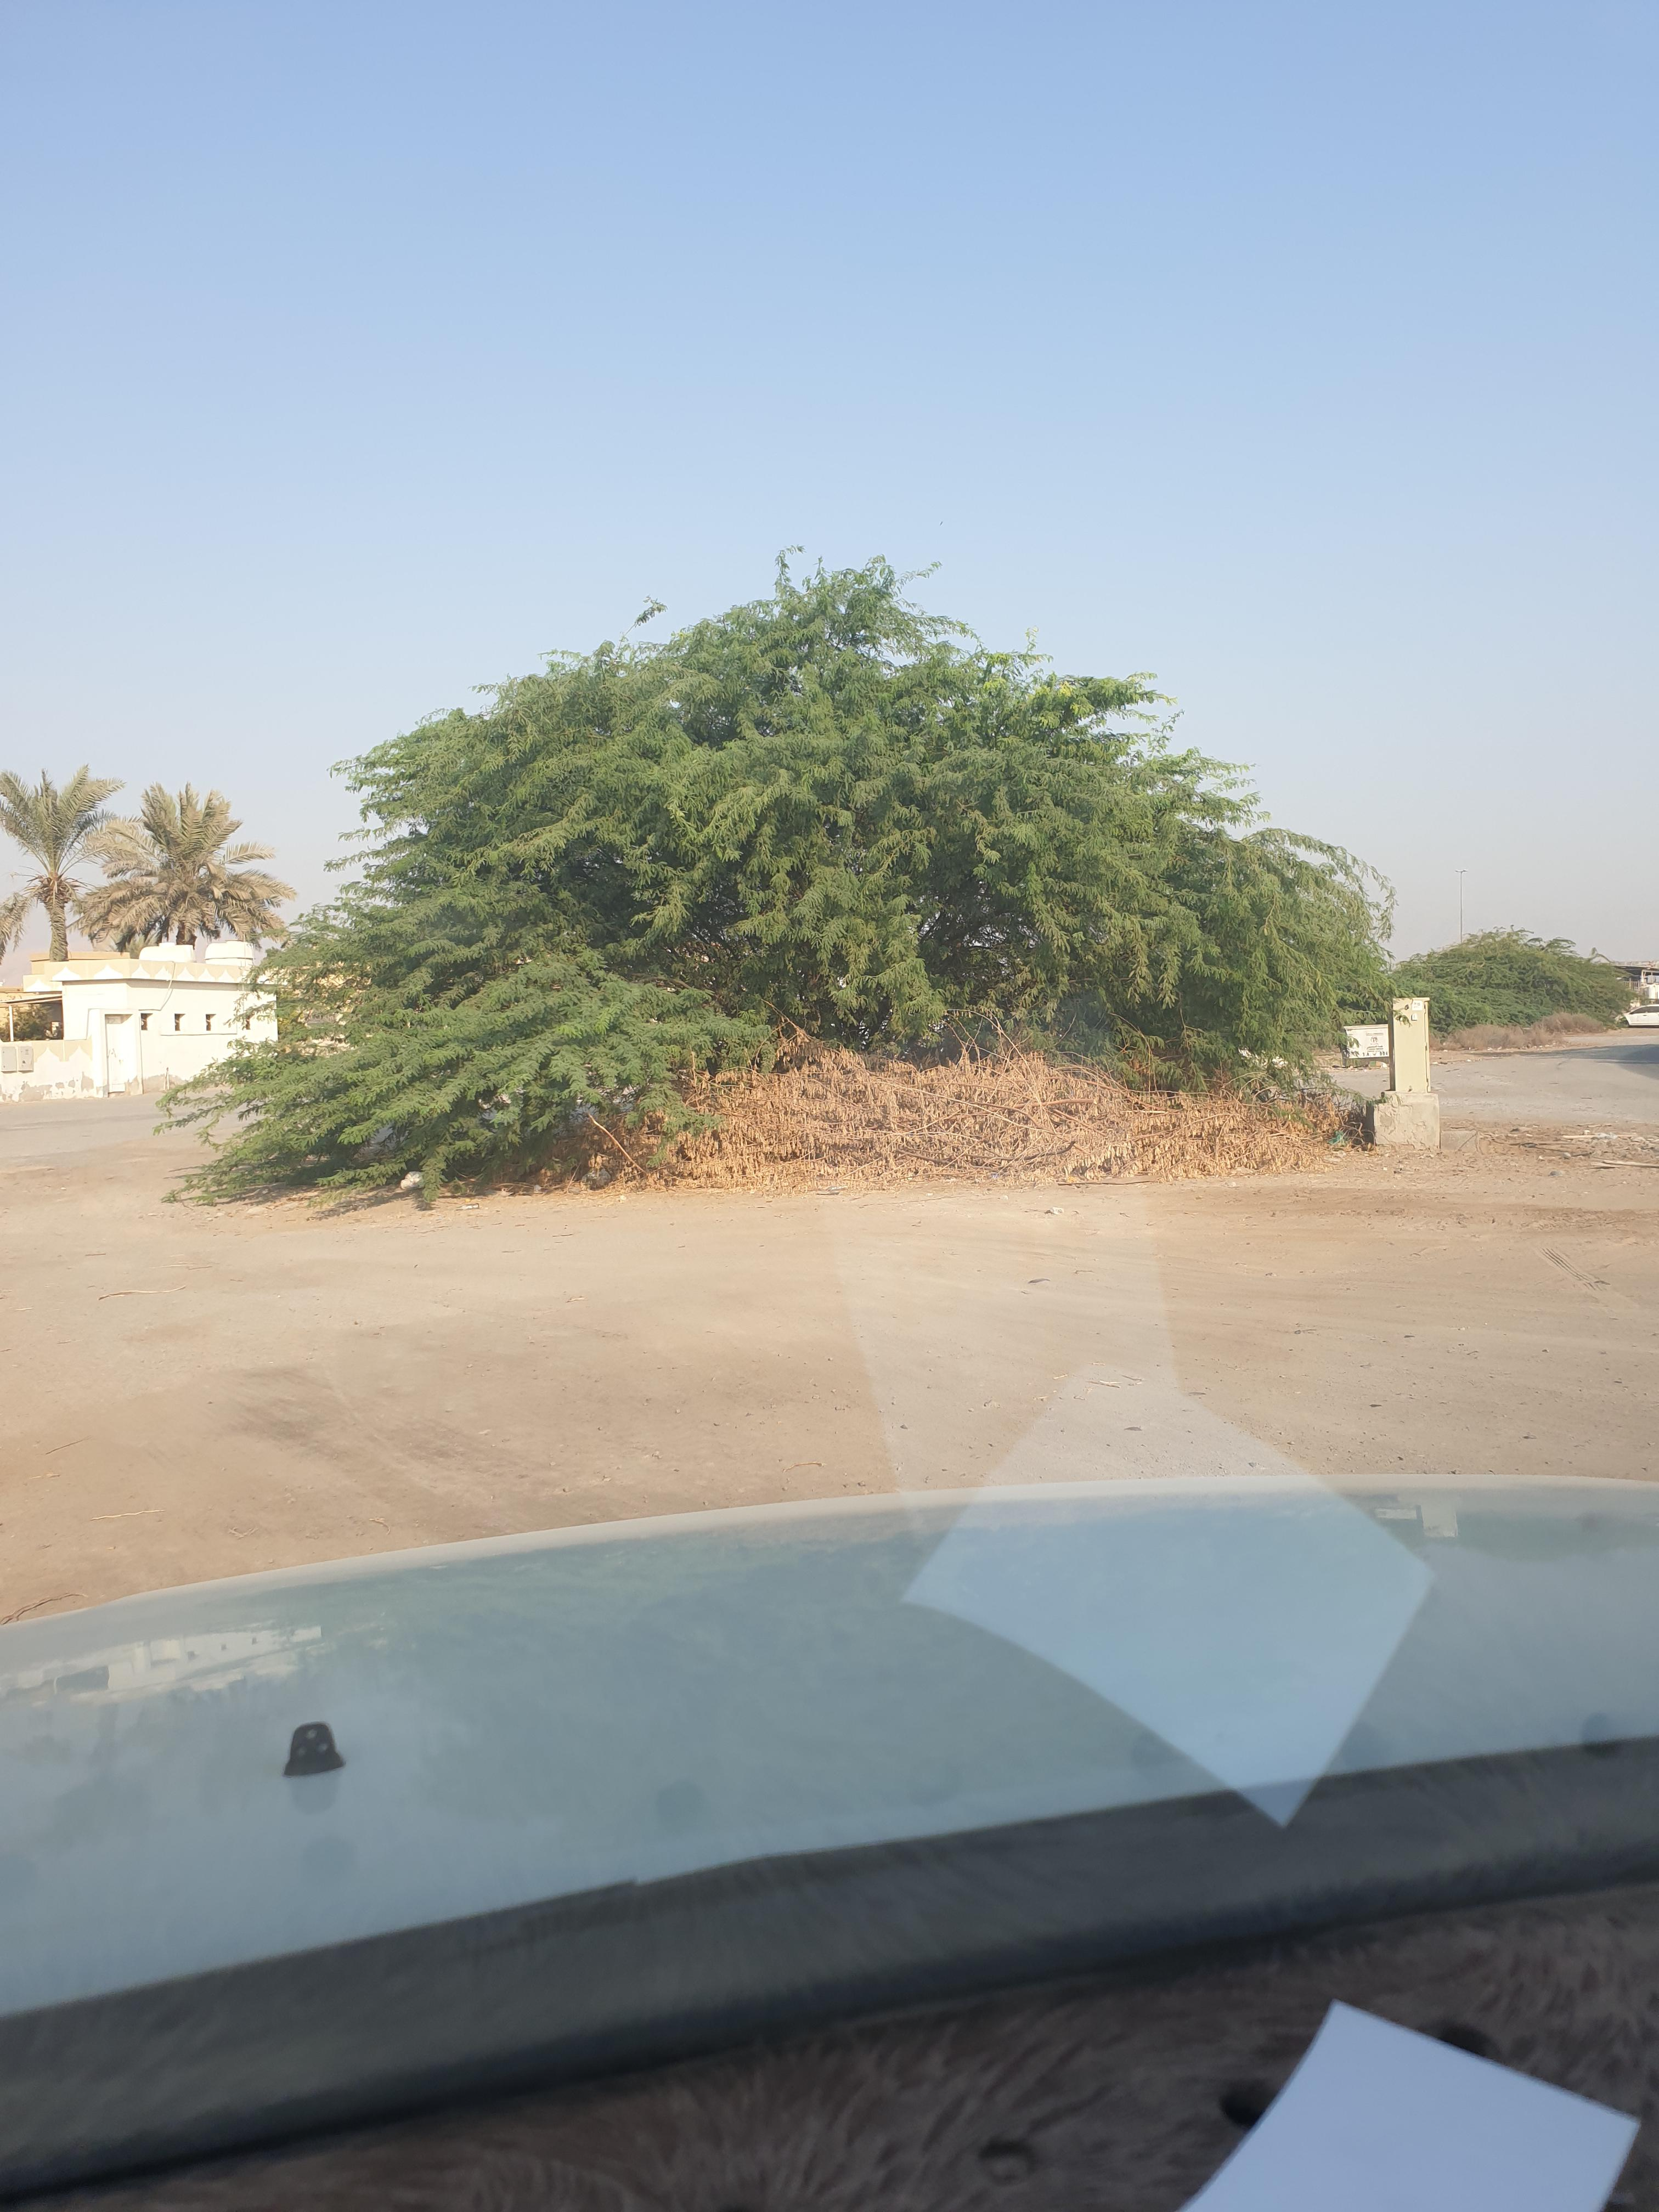fallen_trees: (678, 1148, 1326, 1231), (835, 1113, 1237, 1226), (1506, 1106, 1659, 1216)
